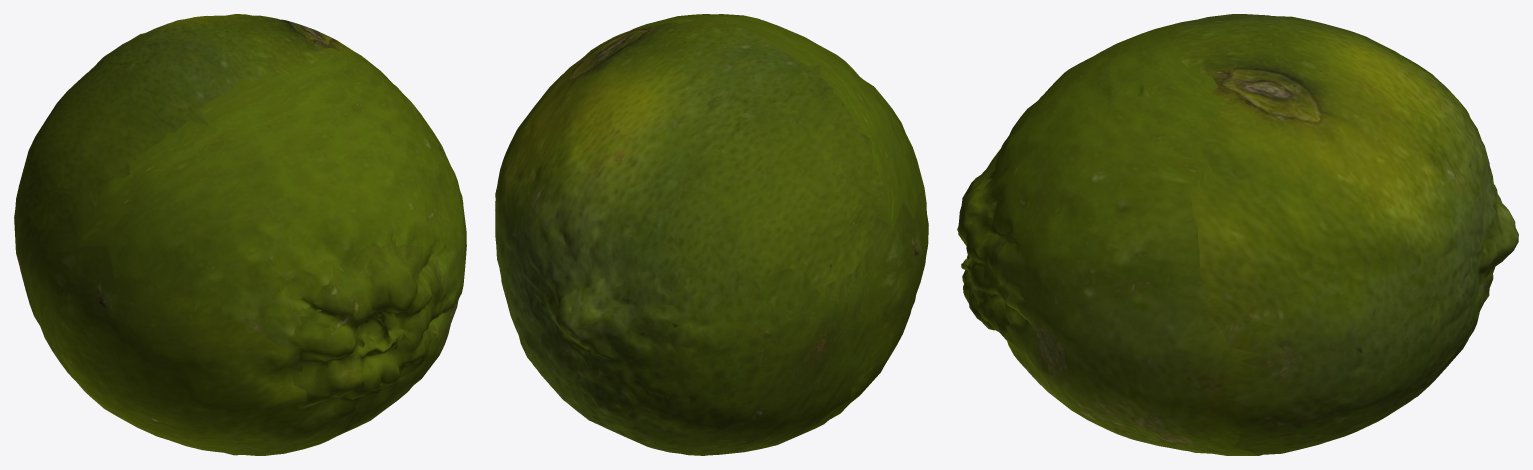
The picture shows the model from 3 angles, left to right: view 1: azimuth 30°, elevation 25°; view 2: azimuth 150°, elevation 25°; view 3: azimuth 270°, elevation 25°; orthographic projection. The views are drawn at different scales.
Bounding box in the file's own units: 0.7963 × 0.8131 × 1.
